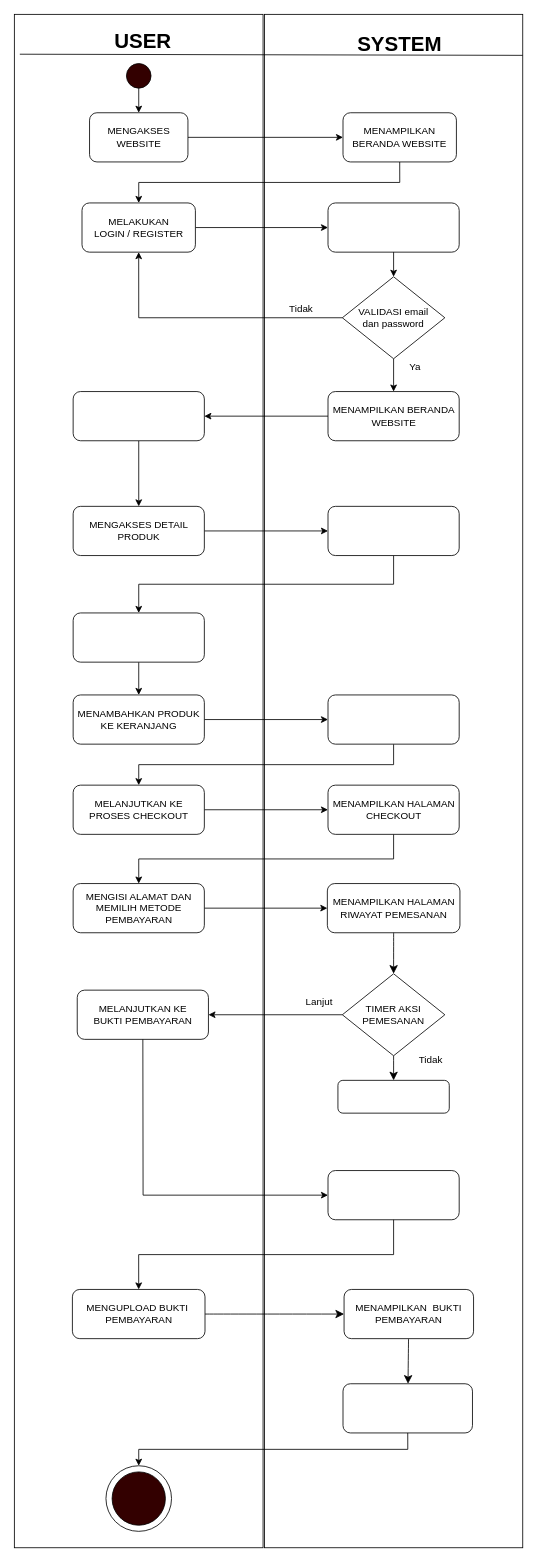
Some shapes in this 538 by 1562 pixel diagram are drawn without their labels. Here are the shapes that lost their labels. From the top down, the centre of each, then its label:
the point at 393,227: MENAMPILKAN HALAMAN LOGIN / REGISTER
the point at 138,416: MELIHAT HALAMAN BERANDA DAN PRODUK
the point at 393,531: MENAMPILKAN HALAMAN DETAIL PRODUK
the point at 138,637: MELIHAT DETAIL PRODUK
the point at 393,719: MENAMPILKAN HALAMAN KERANJANG
the point at 393,1096: PESANAN BATAL
the point at 393,1195: MENAMPILKAN HALAMAN UPLOAD BUKTI
the point at 407,1408: MENAMPILKAN STATUS PESANAN
